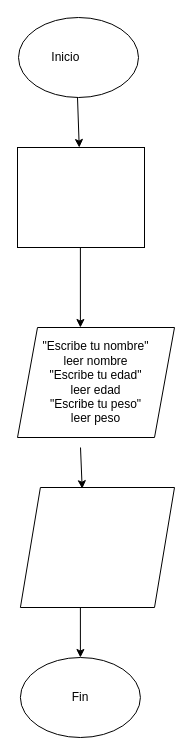
Image size: 192x755. Some labels were removed from this diagram. The centre of each missing label's shape, as x and y in pixels:
"Su nombre es:" nombre "Su edad es" edad "Su peso es" peso: the point at 96,547
nombre: cadena edad: entero peso: decimal: the point at 80,197
